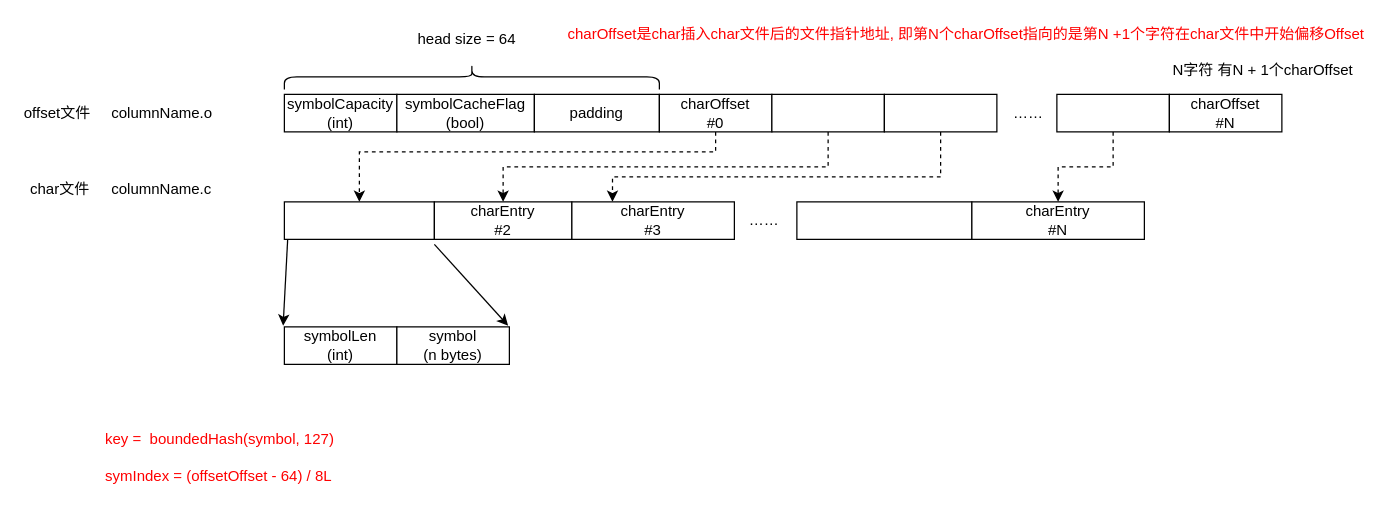
This 1399x510 diagram has some shape labels left out. Here are the shapes that lost their labels. From the top down, the centre of each, then its label:
At point 827,112: "charOffset #1".
At point 940,112: "charOffset #2".
At point 1112,112: "charOffset #N-1".
At point 358,220: "charEntry #1".
At point 884,220: "charEntry #N -1".
